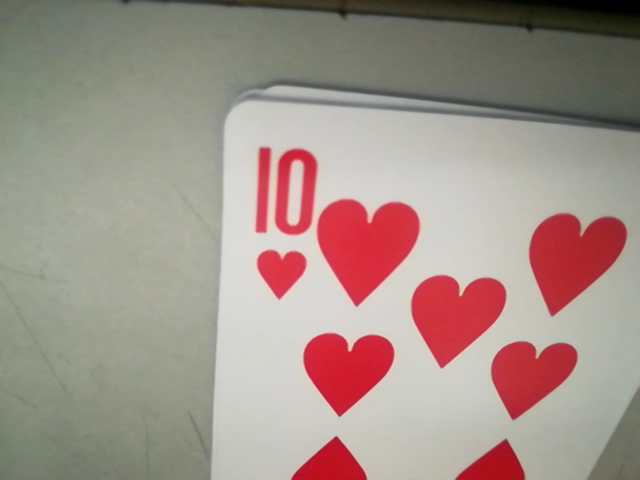hx 10: (249, 145, 319, 304)
